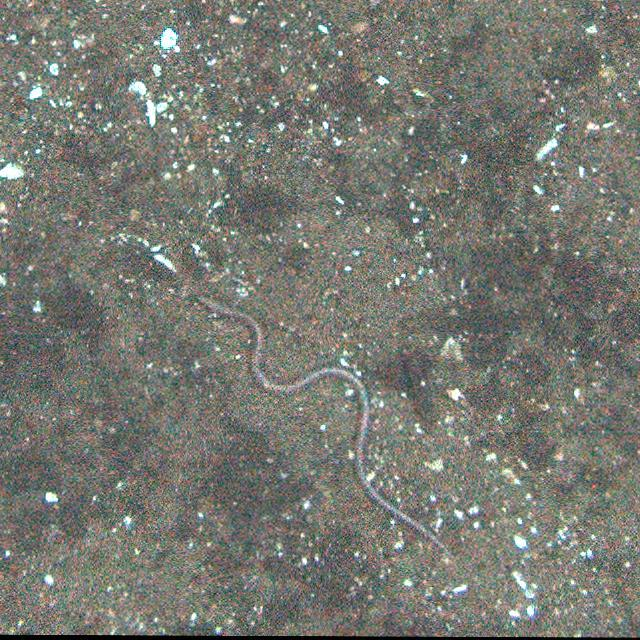eel: (197, 294, 448, 552)
